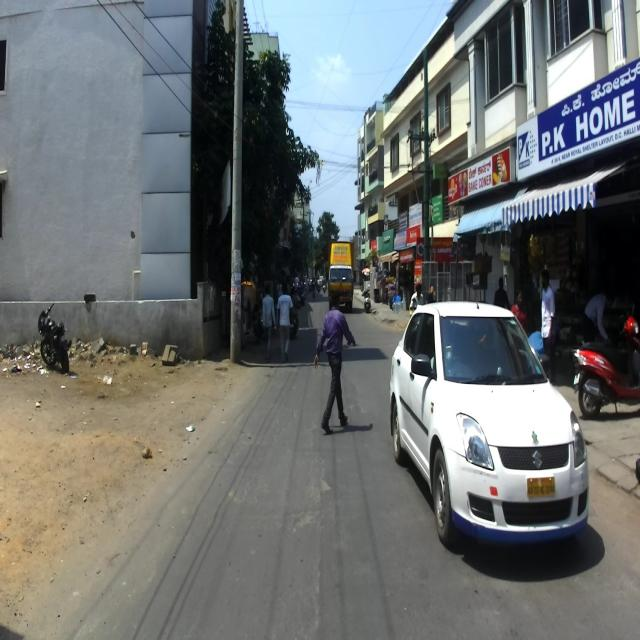Car_Maruti-Suzuki: (388, 272, 588, 548)
motorcycle: (37, 302, 72, 375)
scooter: (566, 309, 639, 420)
truck: (326, 238, 355, 314)
